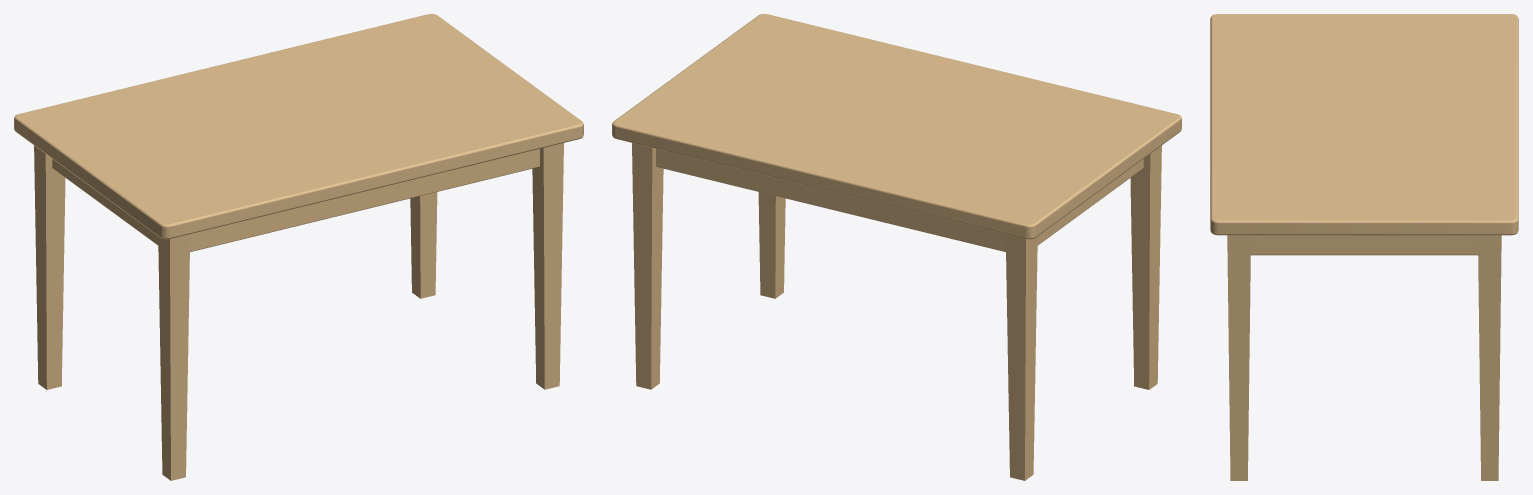
File: table_dining_rect.glb
The picture shows the model from 3 angles, left to right: view 1: azimuth 30°, elevation 25°; view 2: azimuth 150°, elevation 25°; view 3: azimuth 270°, elevation 25°; orthographic projection.
Visible parts, largest first — view 1: table_dining_rect; view 2: table_dining_rect; view 3: table_dining_rect.
Boxes of the visible parts, bbox=[...] form: table_dining_rect: bbox=[14, 14, 583, 480]; table_dining_rect: bbox=[612, 14, 1181, 480]; table_dining_rect: bbox=[1210, 14, 1518, 480].
Size of the model in its own units: 1.2 by 0.72 by 0.75.
